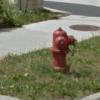Hydrant: (45, 22, 78, 84)
